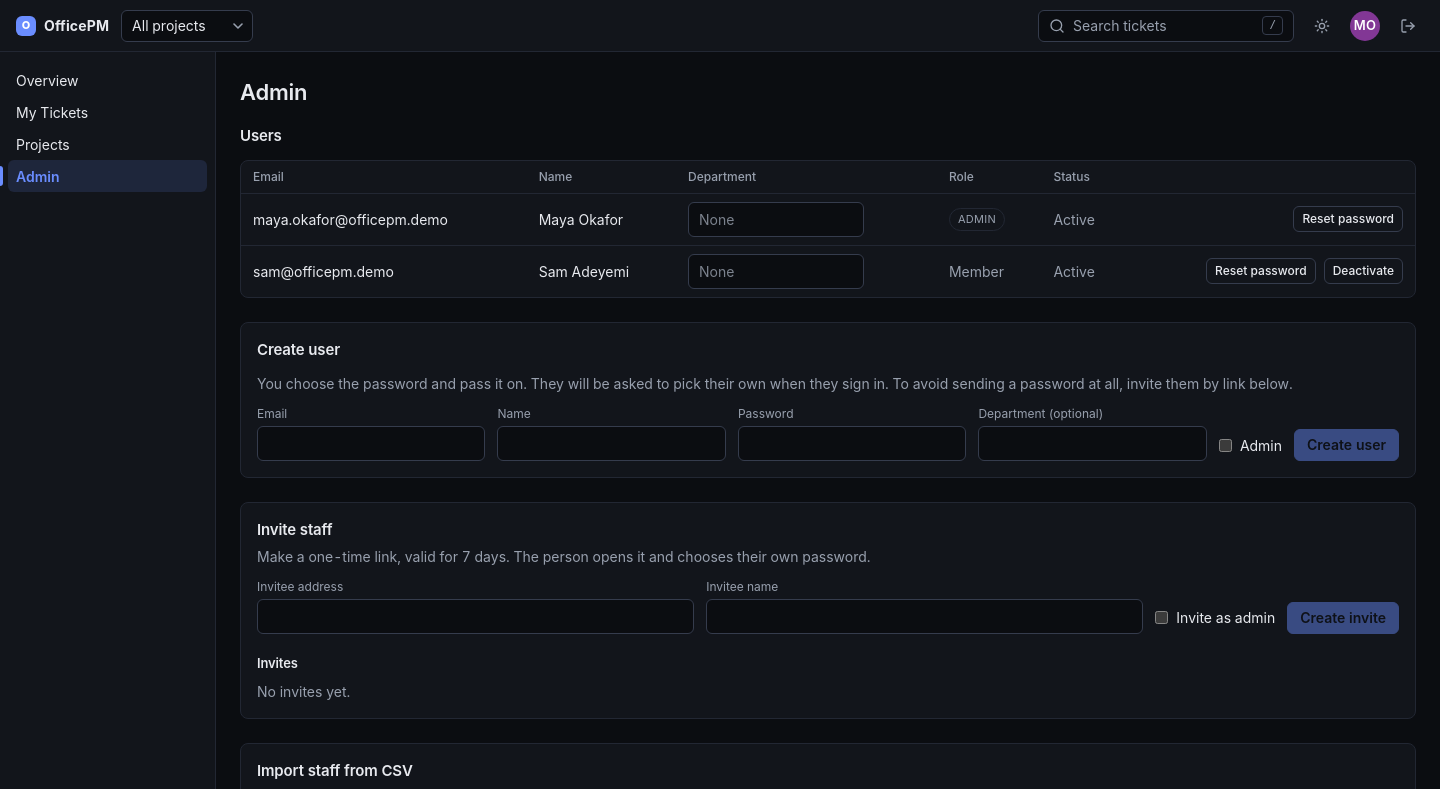
Test: admin page › resets a password in a dialog, refusing one under six characters before it asks the server
The width and height of the screenshot is (1440, 789).
Click the button with aria-label "Reset password for Sam Adeyemi".
click(1261, 271)  # box [1206,258,1316,284]
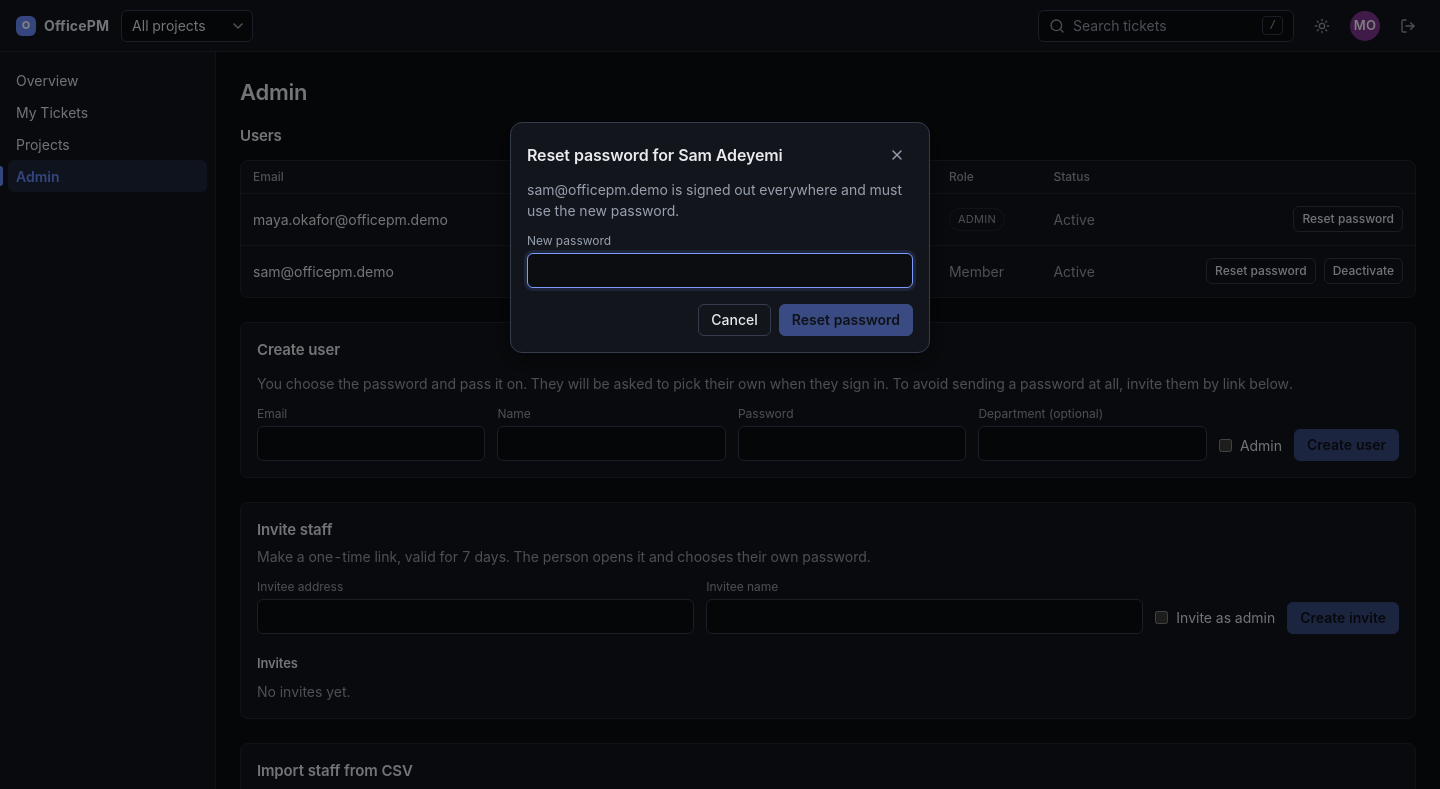
Type "12345" into the password field labelled "New password".
click(720, 270); type("12345")  # box [527,252,913,288]
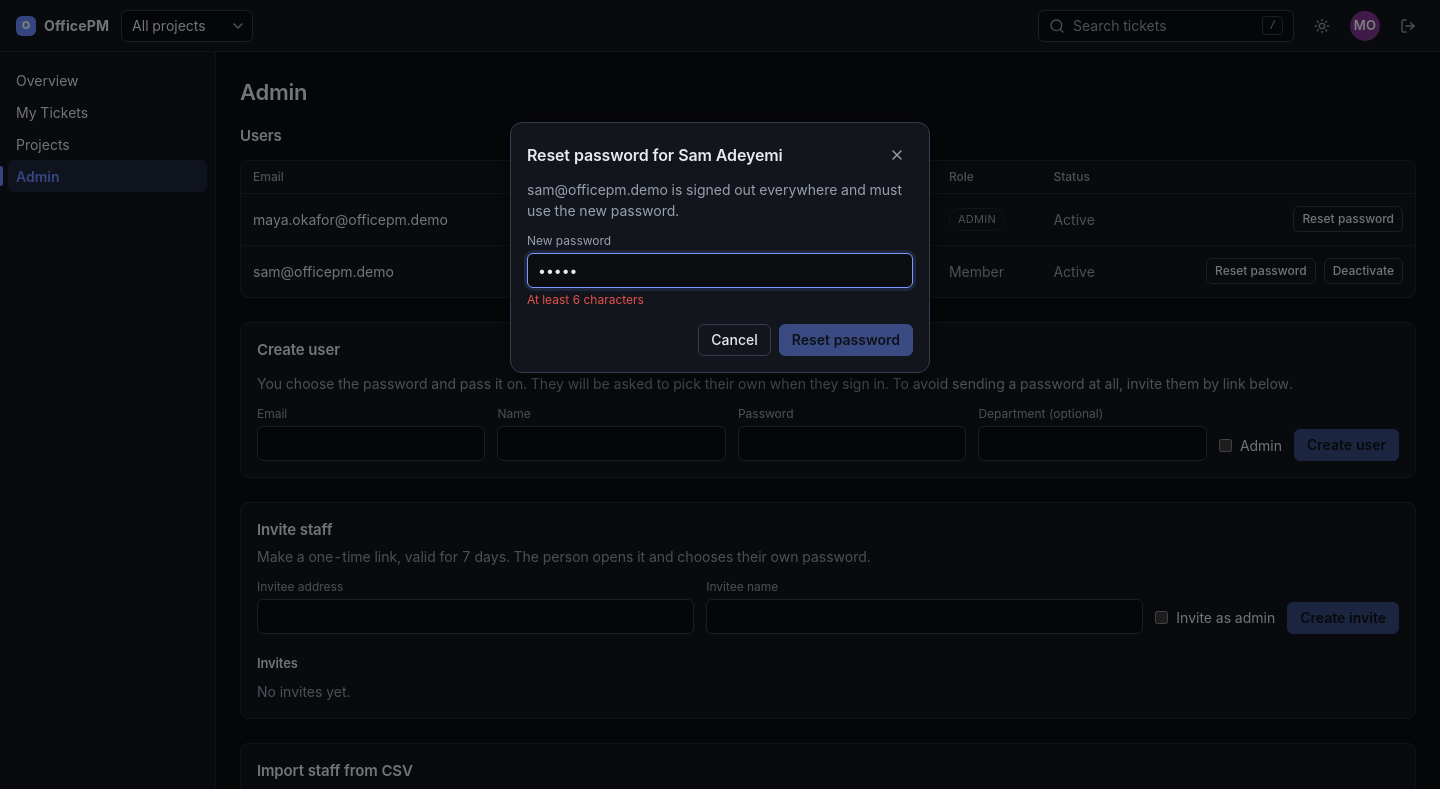
Now the button "Reset password" is disabled, box [779,324,913,356]
Now the text "At least 6 characters" is shown, box [527,292,644,306]
Type "6" into the password field labelled "New password".
click(720, 270); type("6")  # box [527,252,913,288]
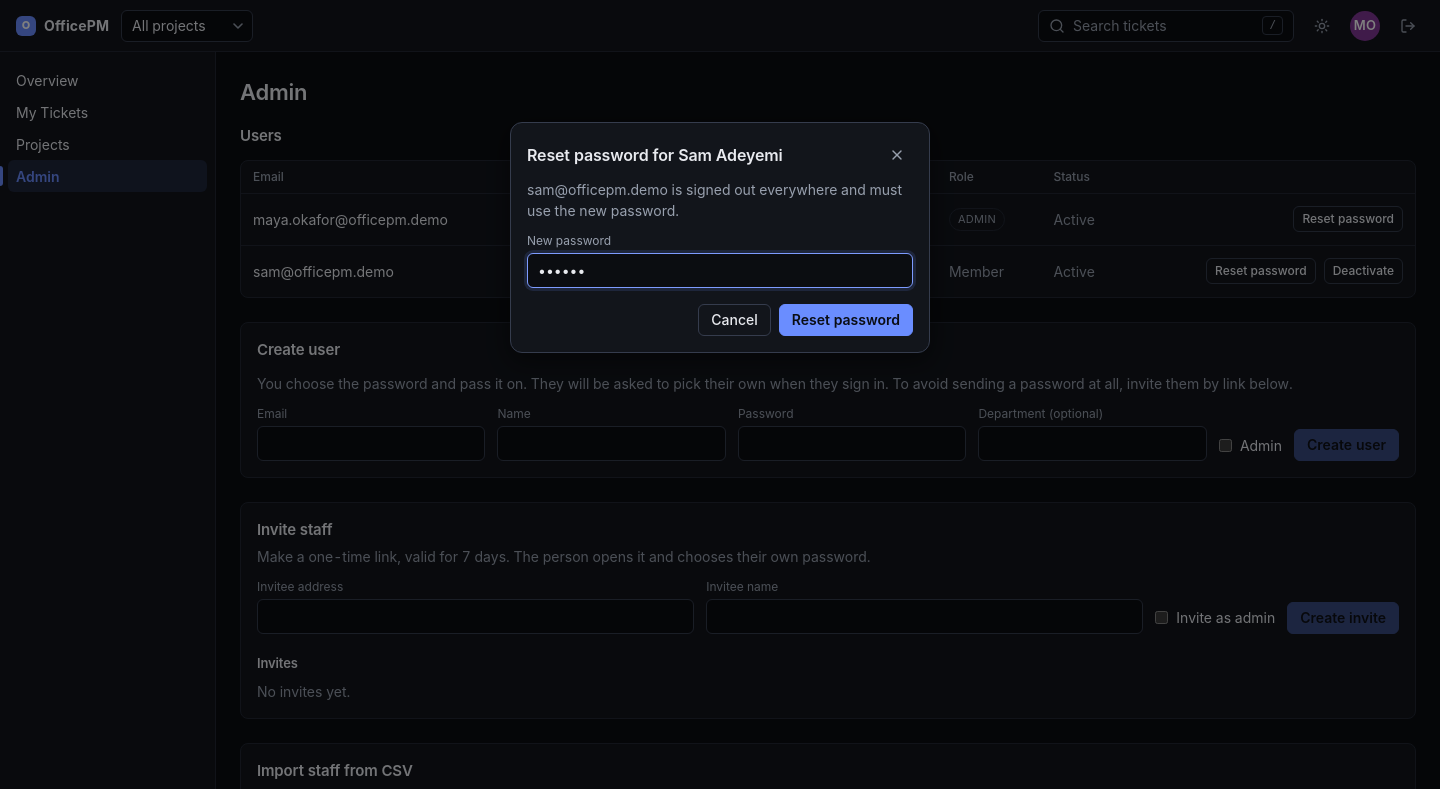
Click the button "Reset password".
click(846, 320)  # box [779,304,913,336]
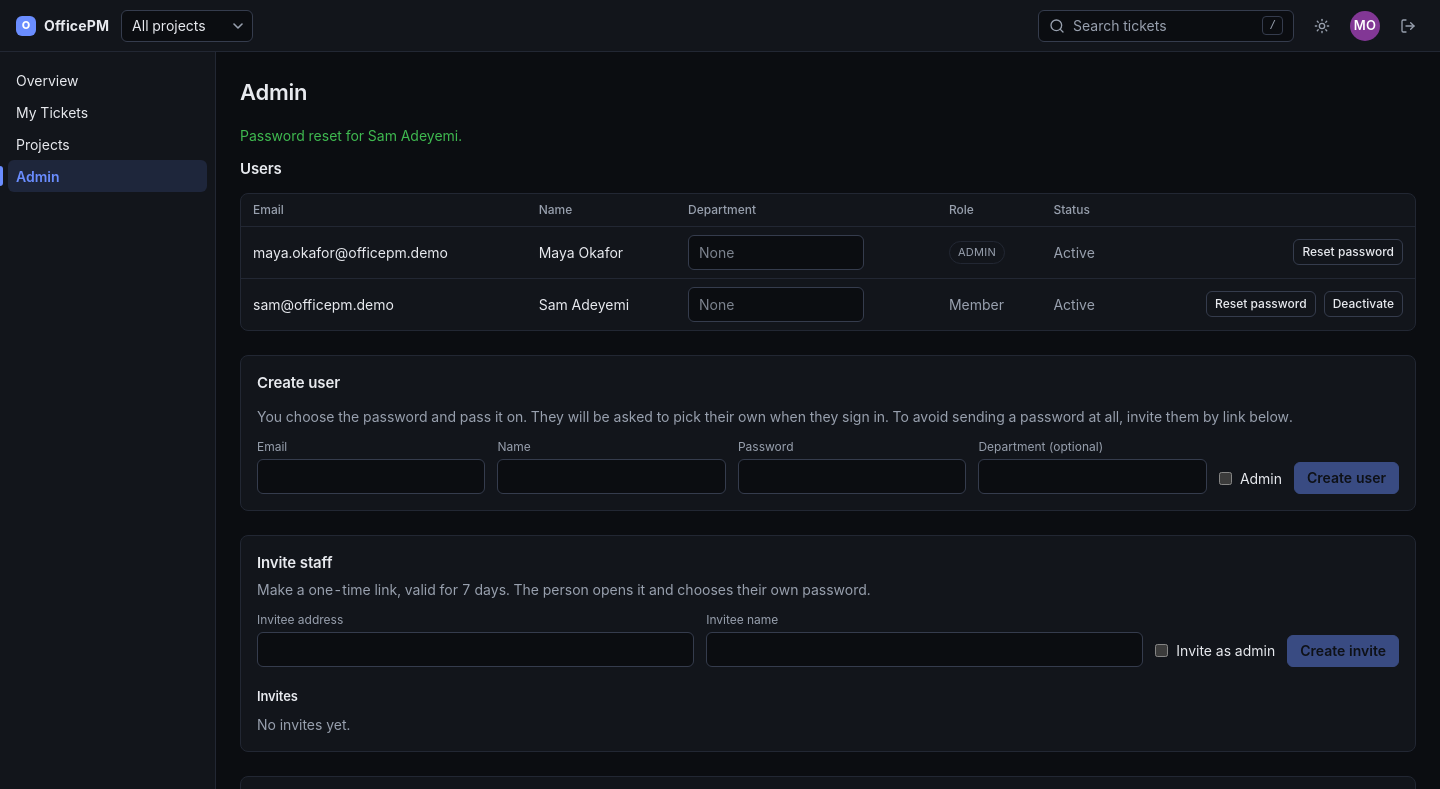
Now the message shows "Password reset for Sam Adeyemi", box [240,127,462,144]
Now the dialog is gone
